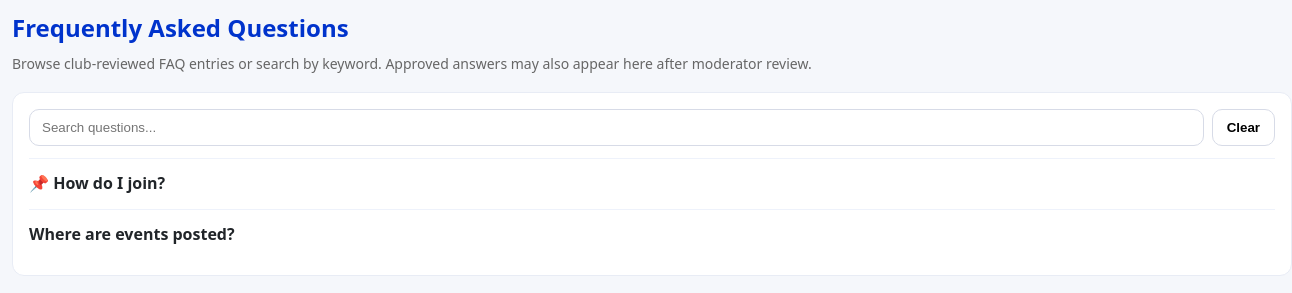
Test case: FaqBrowse (canonical /ask FAQ surface) › filters loaded entries with client-side search
Expected: the text "📌 How do I join?" is shown, [29,172,165,194]
In the search field labelled "Search questions": (616, 128) [29,109,1204,146], type "events"
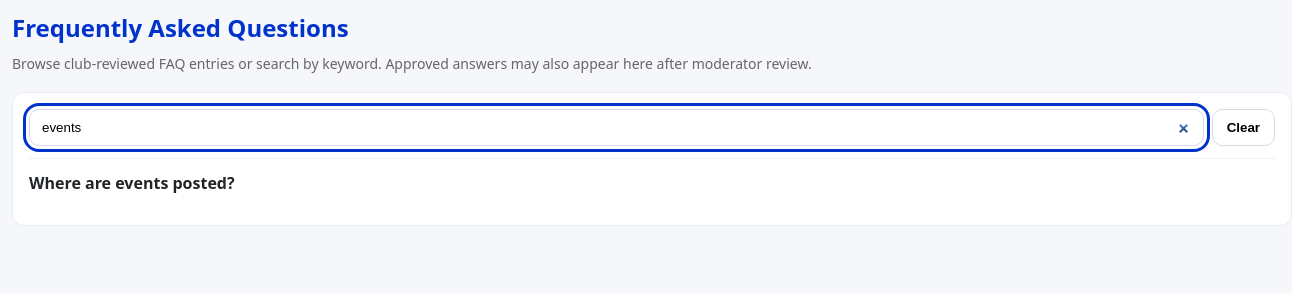
Expected: the text "Where are events posted?" is shown, [29,172,235,194]
Expected: the button "How do I join?" is gone
